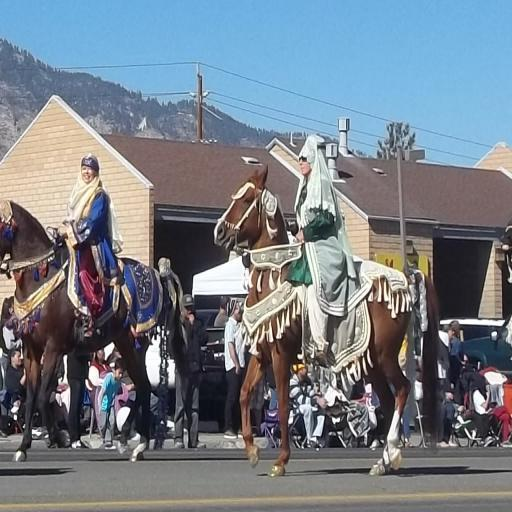horse: (212, 164, 442, 480), (0, 198, 189, 464)
